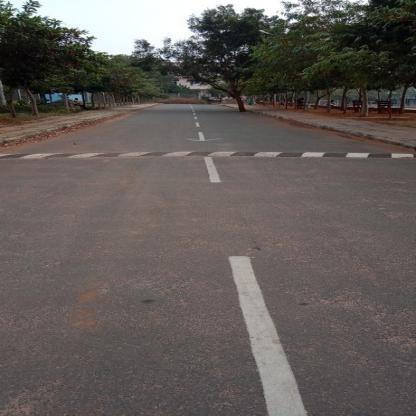speed-bumps: (0, 143, 415, 162)
